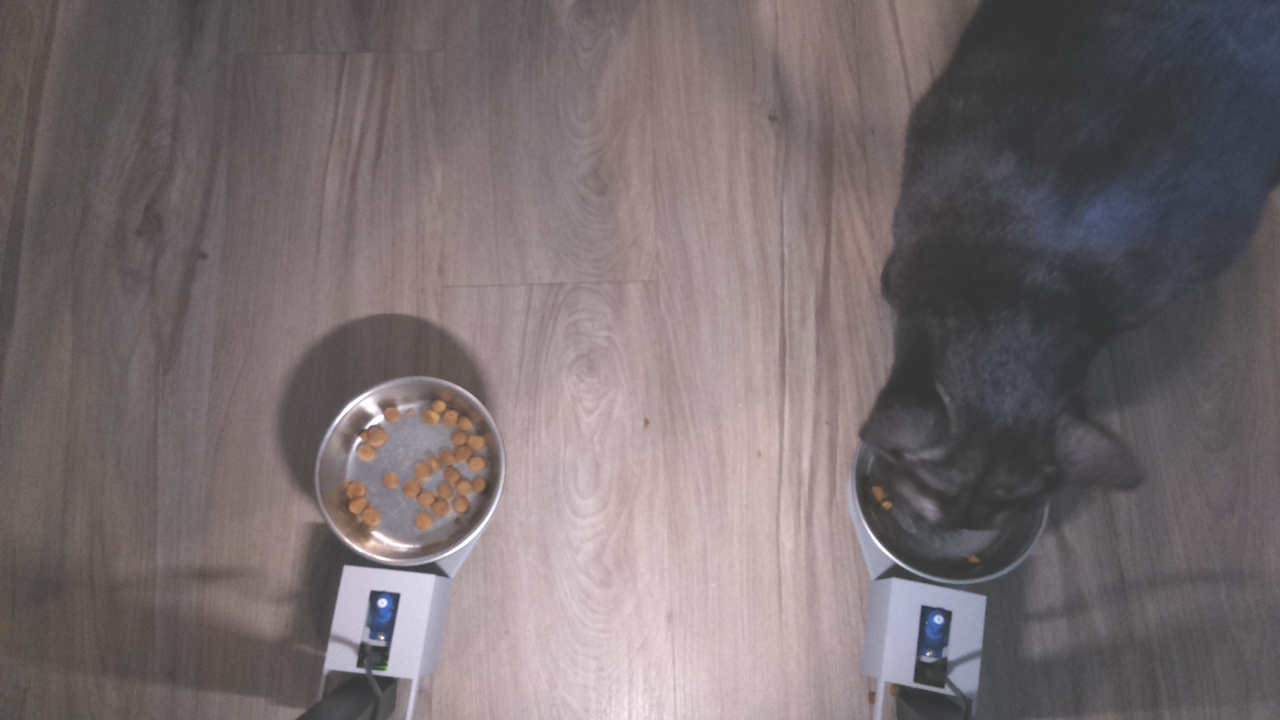open_bowl: (313, 372, 507, 570)
saki_eating: (843, 303, 1161, 597)
